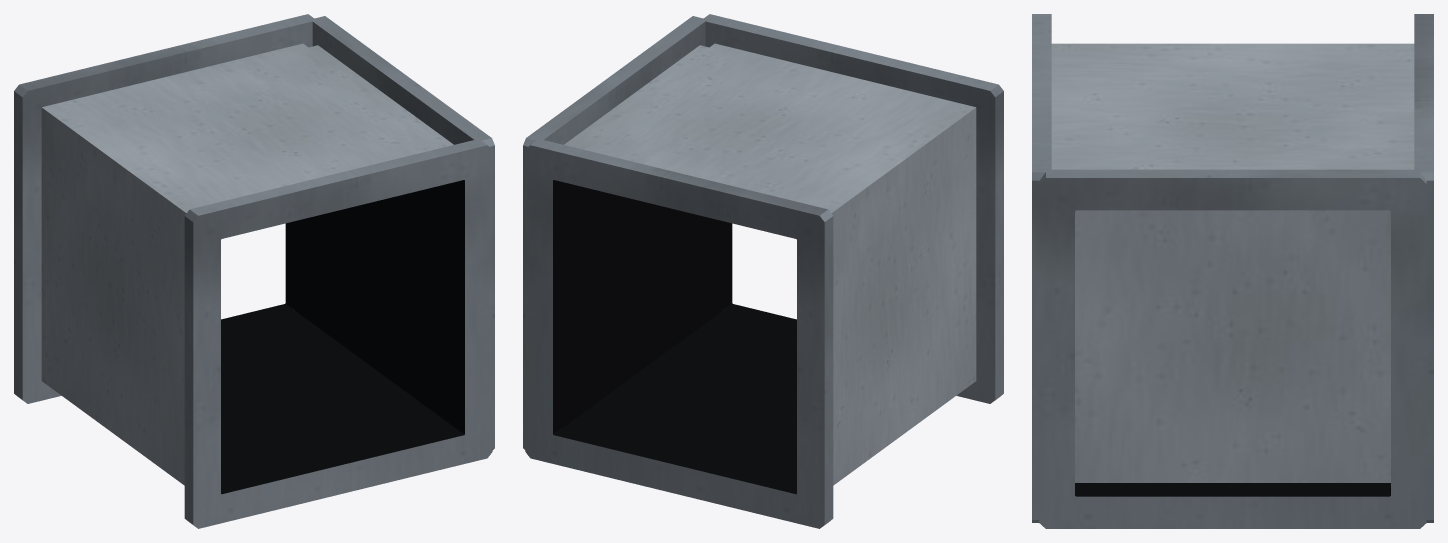
Rendered from duct_tee.glb.
3 renders of one model, left to right at view 1: azimuth 30°, elevation 25°; view 2: azimuth 150°, elevation 25°; view 3: azimuth 270°, elevation 25°, orthographic. The views are drawn at different scales.
Visible parts, largest first — view 1: Body.003; view 2: Body.003; view 3: Body.003.
Part boxes in pixels (x1,y1,x2,y2): Body.003: (14,14,494,528); Body.003: (523,14,1003,528); Body.003: (1032,14,1433,528).
Size of the model in its own units: 0.2425 by 0.238 by 0.247.
Materials: 3 (2 with a texture image).
